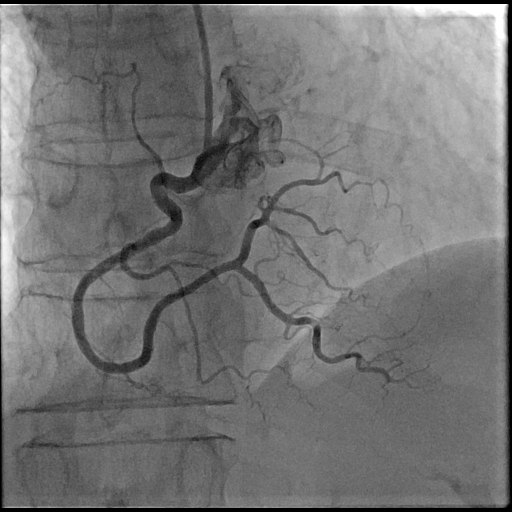RCA: (72, 172, 391, 382)
catherter: (193, 5, 213, 150)
